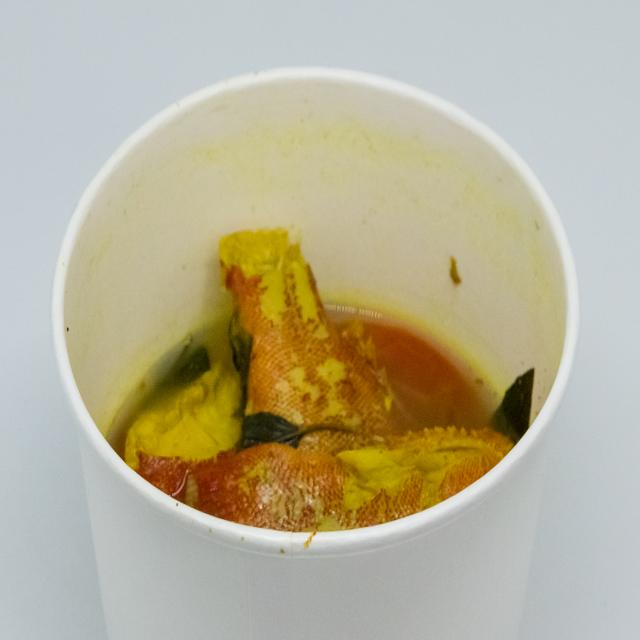Gulai-Ikan-Mas: (115, 207, 541, 531)
